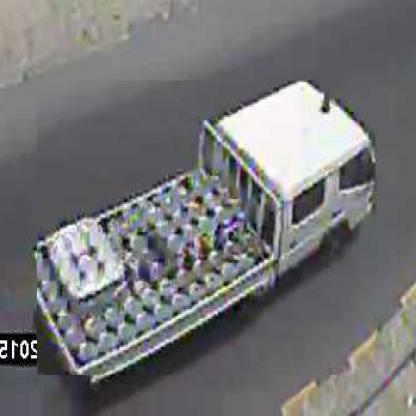truck: (37, 82, 376, 378)
